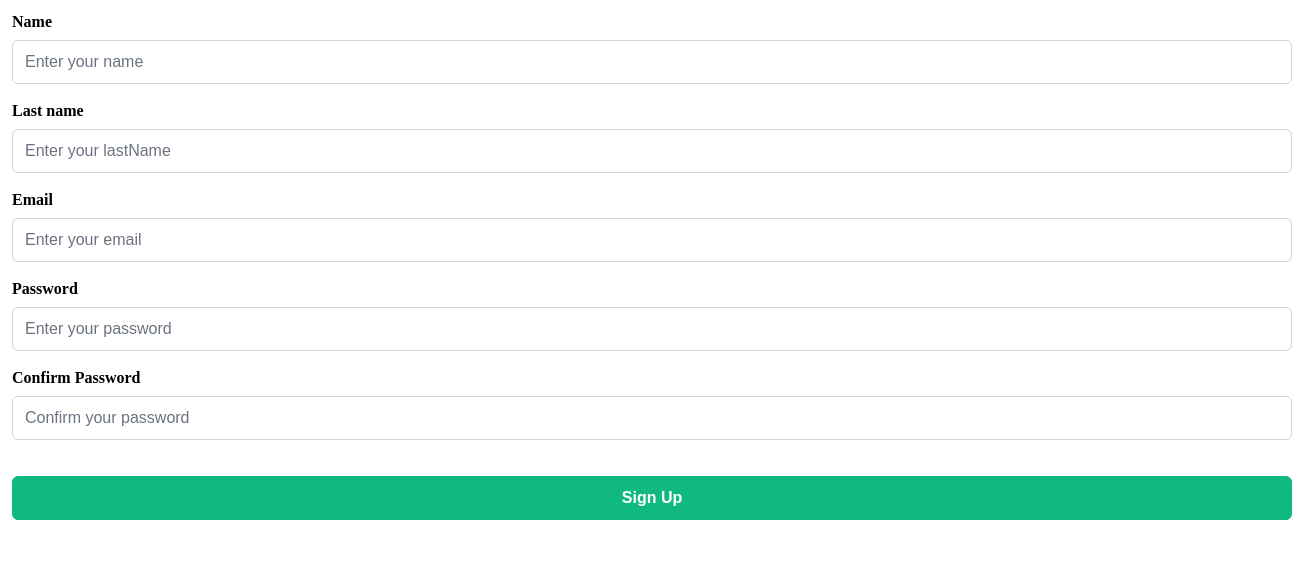
Test: SignUpForm › should validate email format correctly
In the field with test id "email-input": (652, 240) [12, 218, 1292, 262], type "invalid-email"
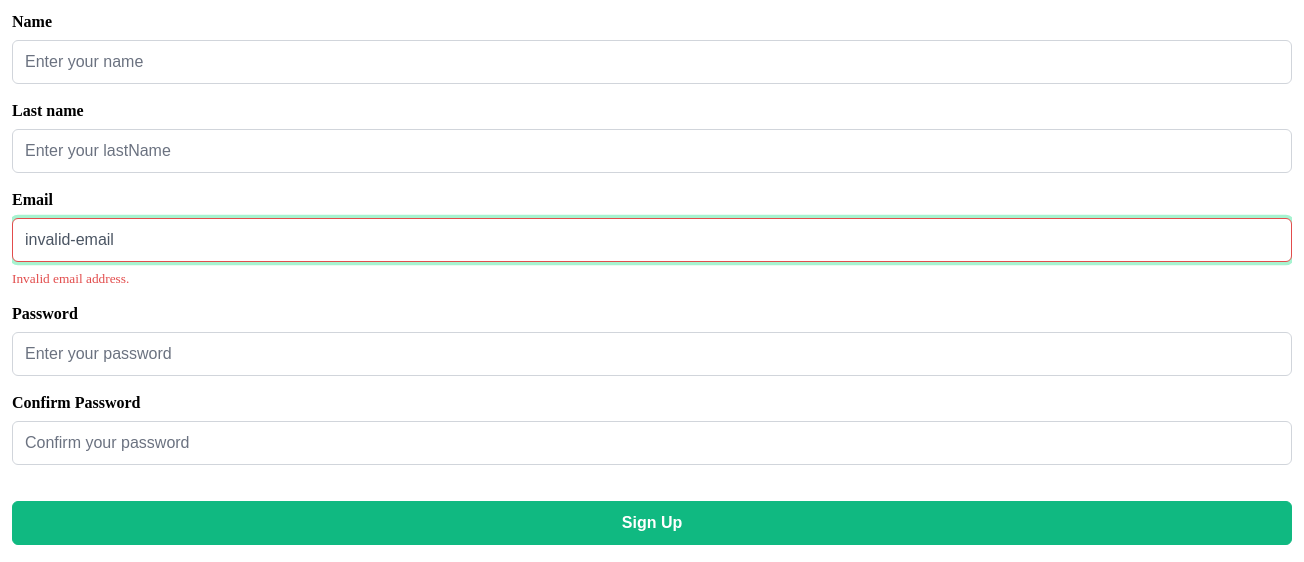
Expected: the text with test id "email-message" reads "Invalid email address.", [12, 271, 129, 286]
Replace the text in the field with test id "email-input" with "test@example.com": (652, 240) [12, 218, 1292, 262]
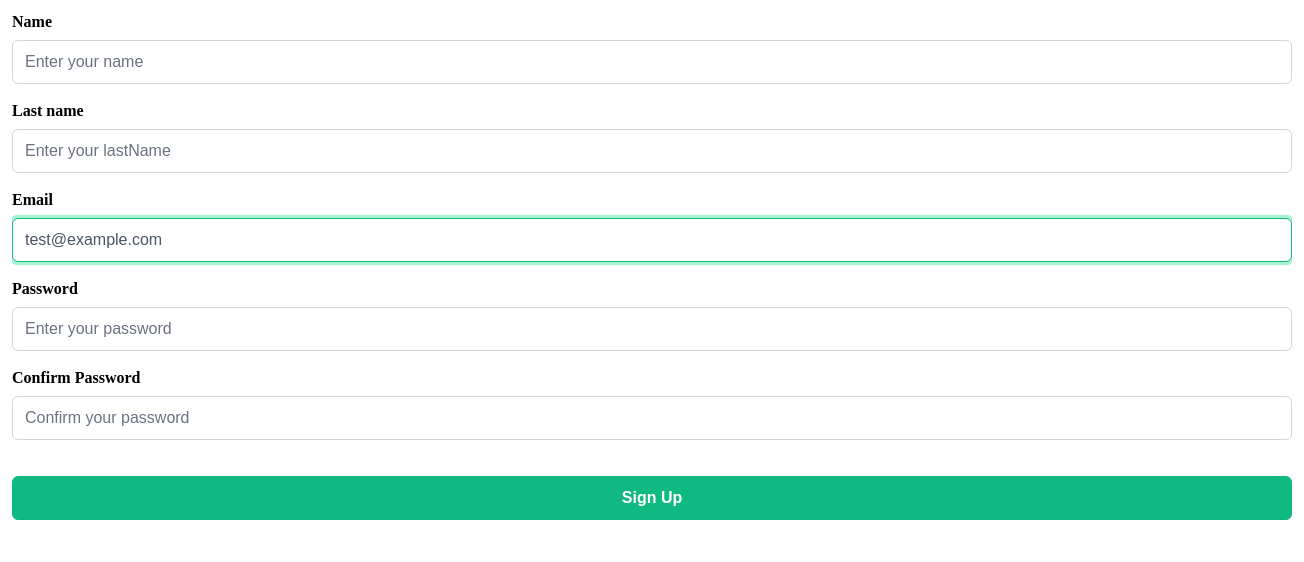
Expected: the text with test id "email-message" is gone
